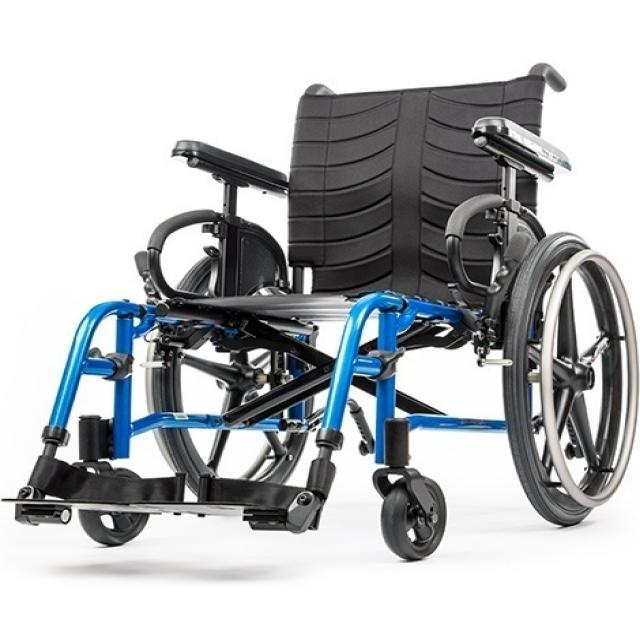wheelchair: (0, 64, 640, 567)
